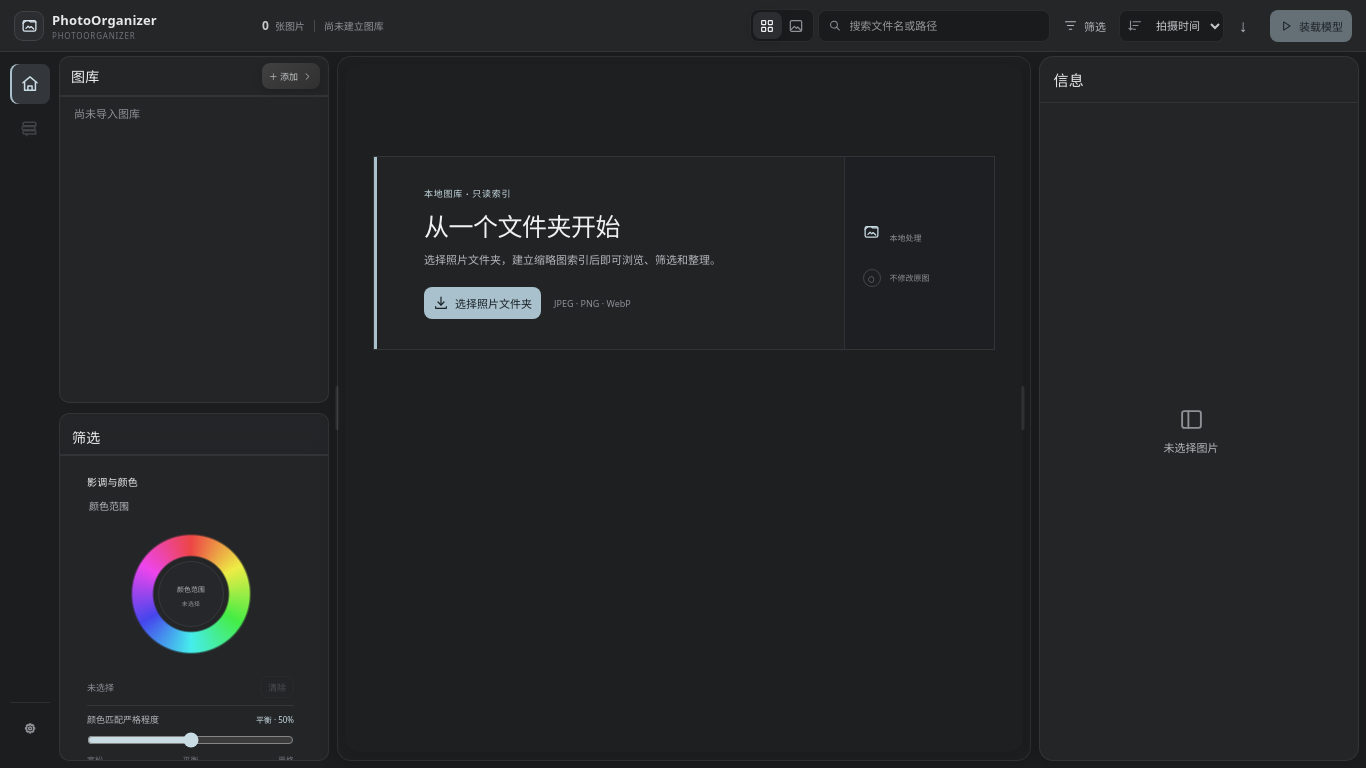
Test: PhotoOrganizer application shell › opens the folder chooser and starts a scan
Expected: the heading "从一个文件夹开始" is shown, [424,207,620,243]
Click the button "选择照片文件夹". click: (482, 303)
box: [424,287,541,319]
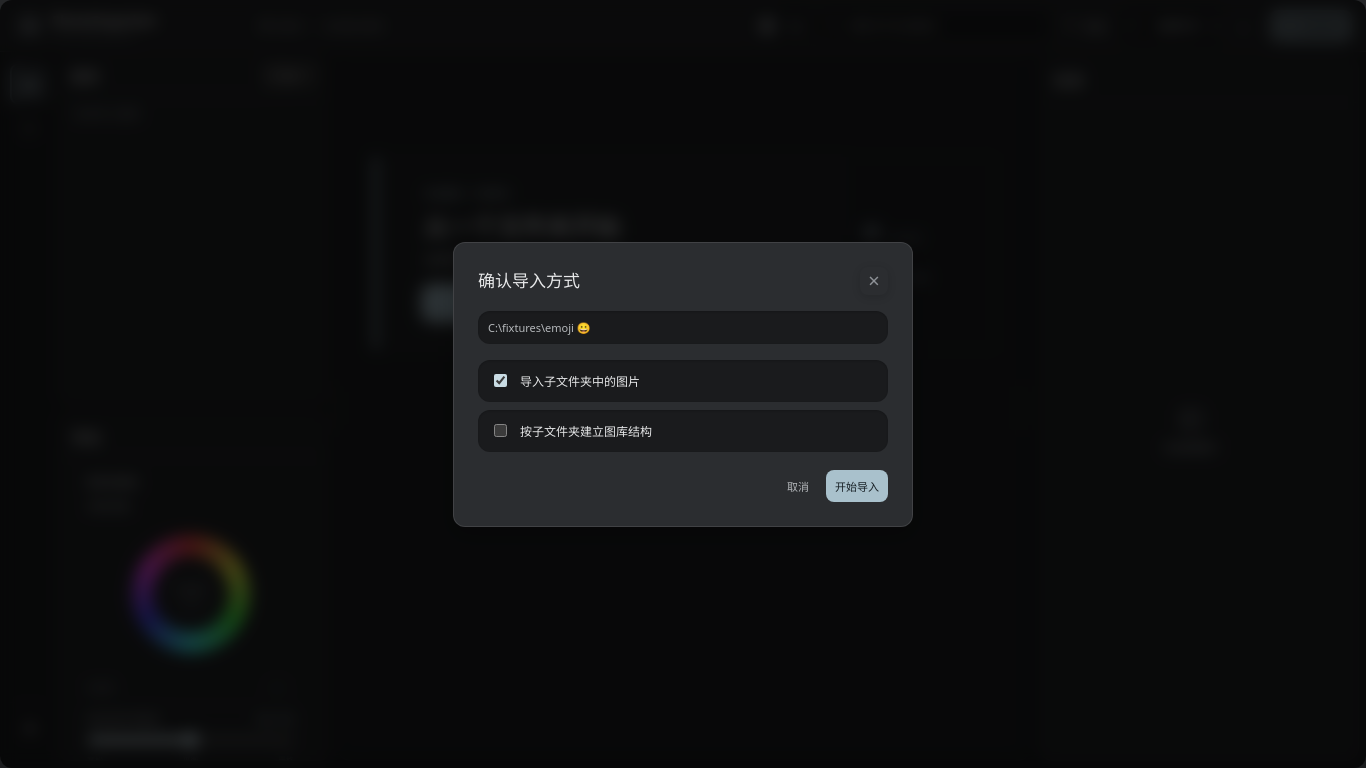
Now the dialog "确认导入方式" is shown, box [453,242,913,526]
Now the checkbox labelled "导入子文件夹中的图片" is checked, box [494,374,507,386]
Now the checkbox labelled "按子文件夹建立图库结构" is not checked, box [494,424,507,436]
Click the button "开始导入". click: (857, 486)
box: [826,470,888,502]
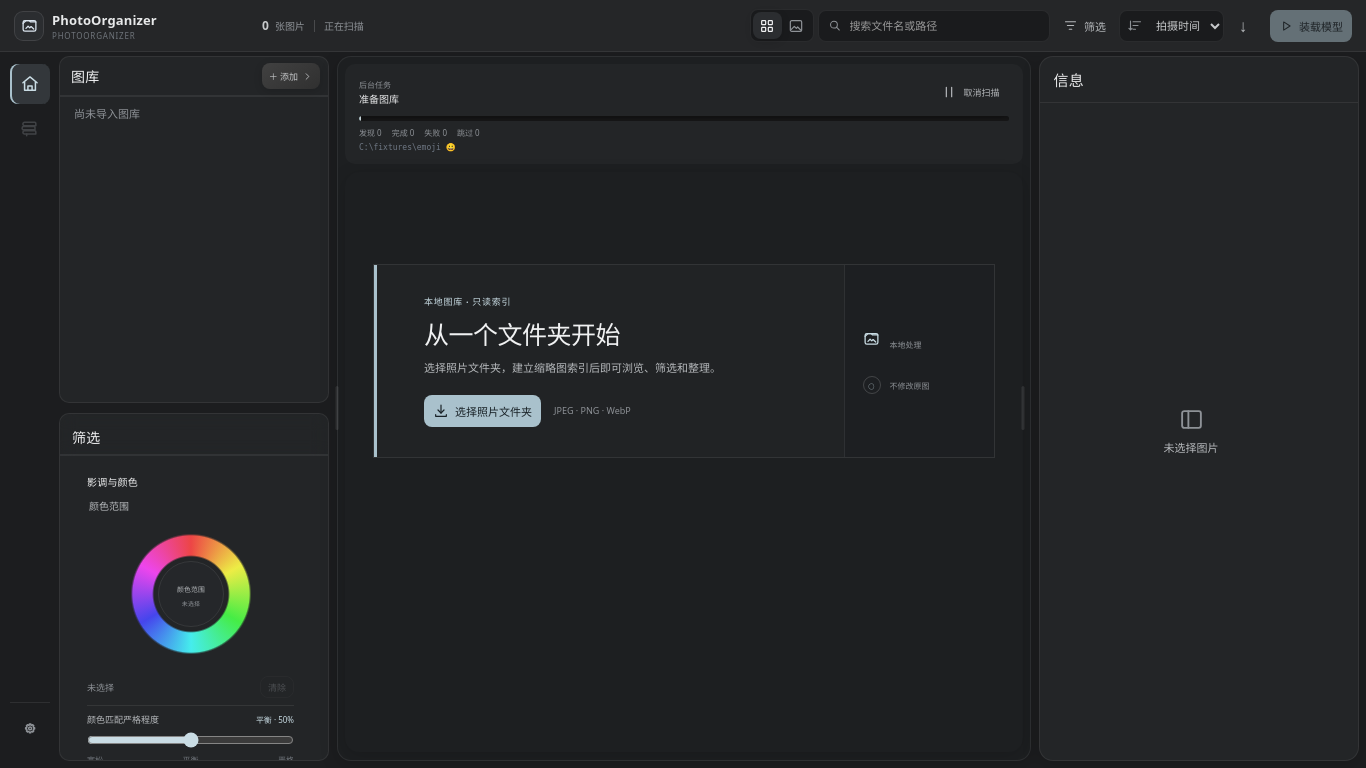
Now the text "准备图库" is shown, box [359,90,399,106]
